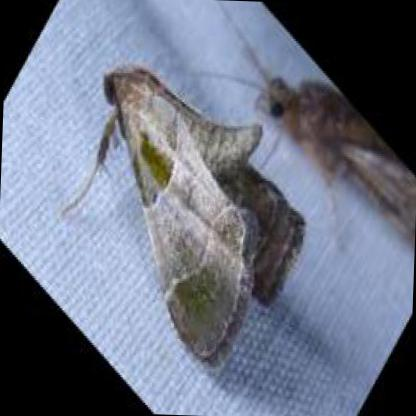Leaf Webber: (97, 63, 309, 365)
